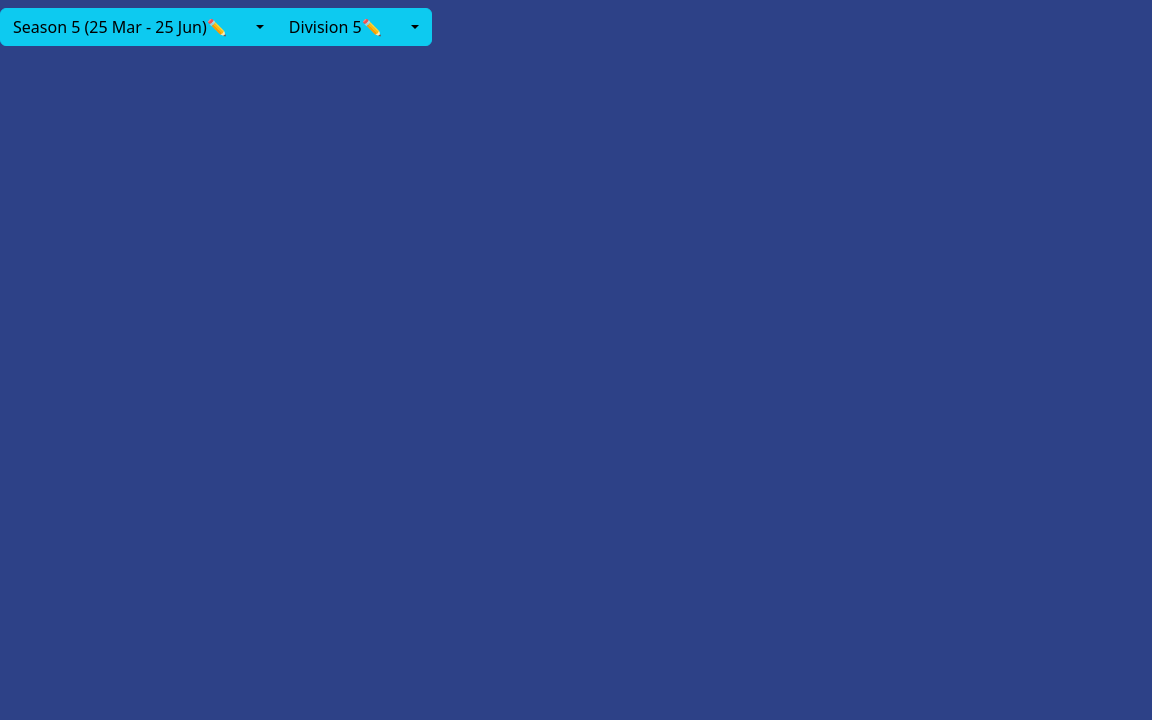
Scenario: DivisionControls › interactivity › when logged in › can save season details
This screenshot has width=1152, height=720.
Click the button "Season 5 (25 Mar - 25 Jun)✏": [120, 27] box [0, 8, 240, 46]
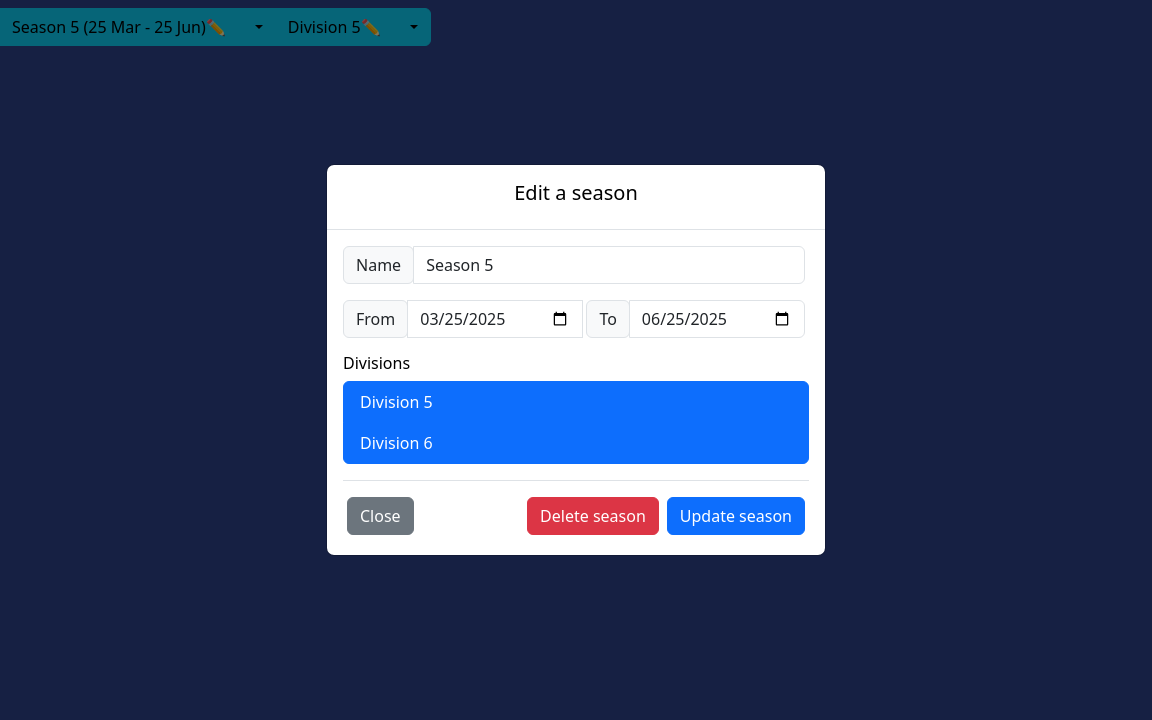
Click the button "Update season": [736, 516] box [667, 497, 805, 535]
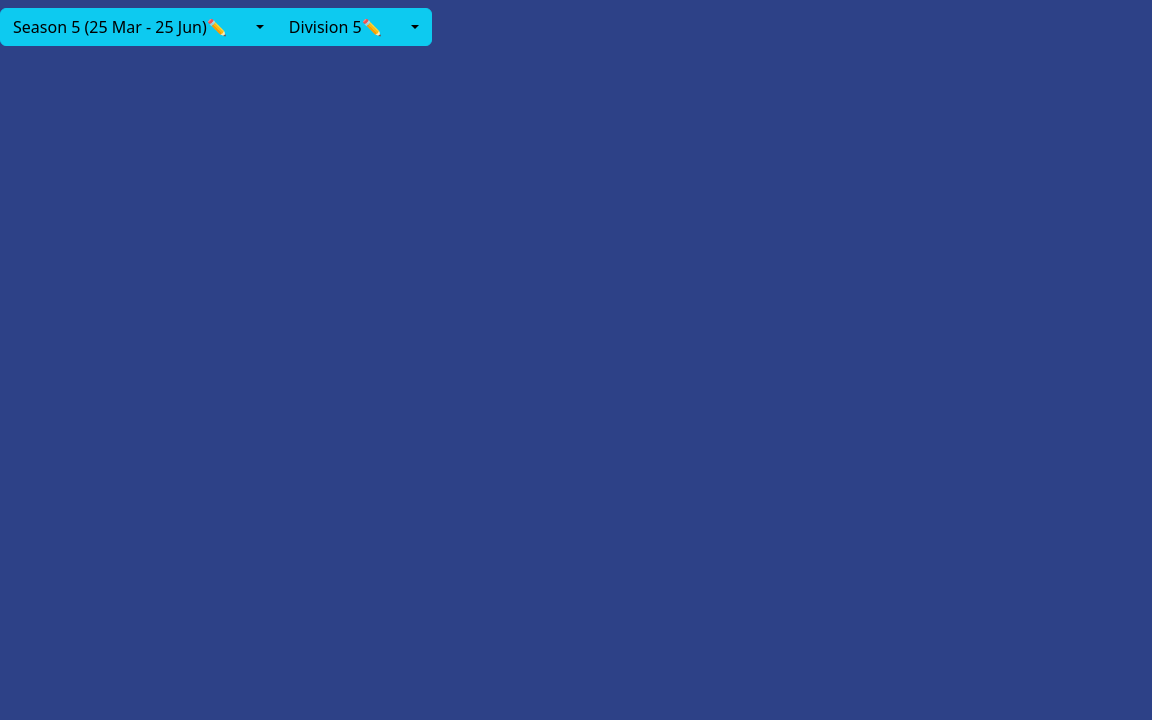
Check: the element with class "modal-dialog" is gone
